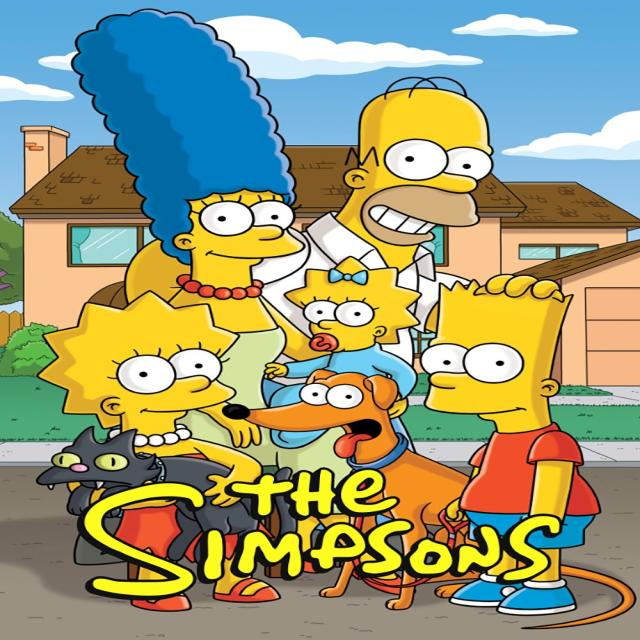Bart Simpson: (421, 278, 571, 436)
Homer Simpson: (339, 74, 498, 253)
Lisa Simpson: (35, 290, 243, 440)
Maggie Simpson: (278, 254, 430, 354)
Marge Simpson: (78, 8, 302, 296)
